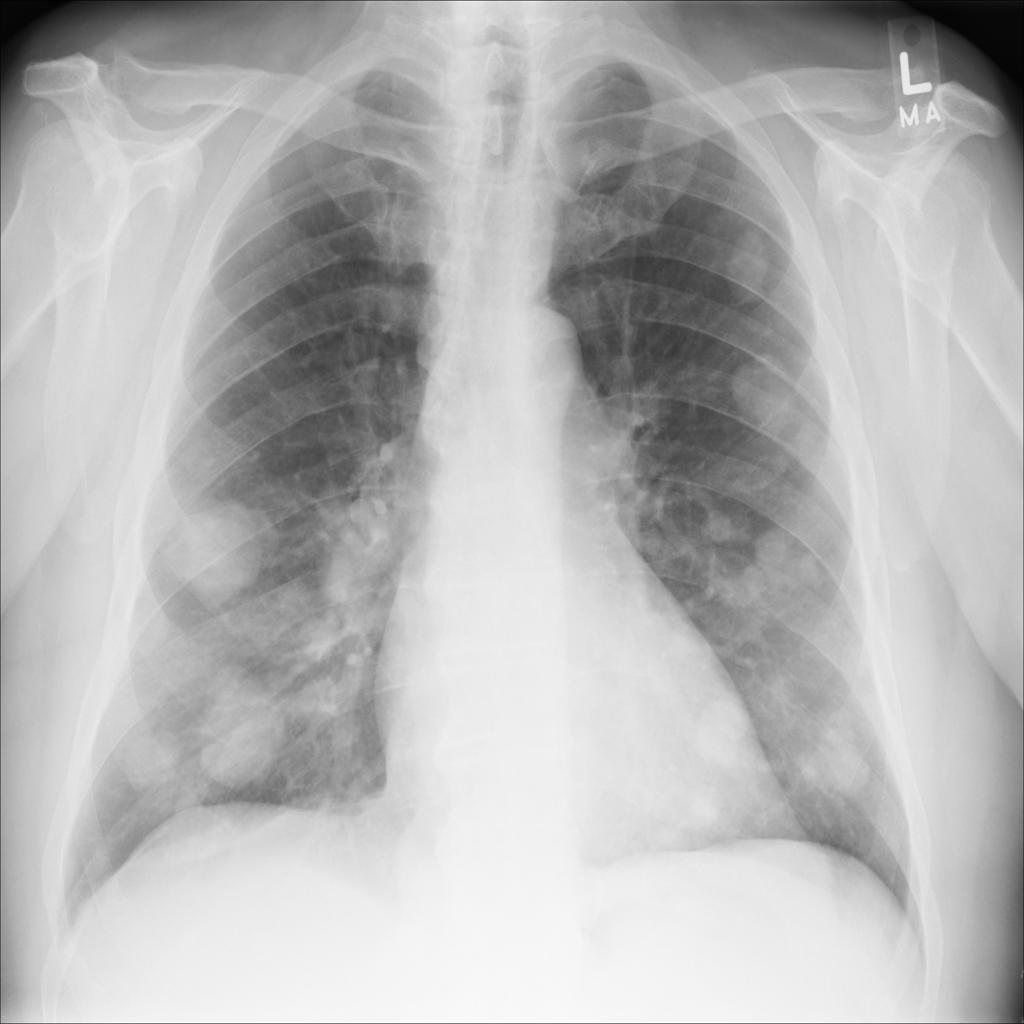nodule: (174, 651, 305, 802), (151, 474, 288, 615), (692, 513, 842, 639), (785, 690, 886, 810), (720, 331, 818, 451), (705, 201, 790, 319), (113, 719, 195, 797), (686, 690, 760, 771), (631, 799, 712, 867), (670, 771, 743, 842), (699, 499, 751, 552)
